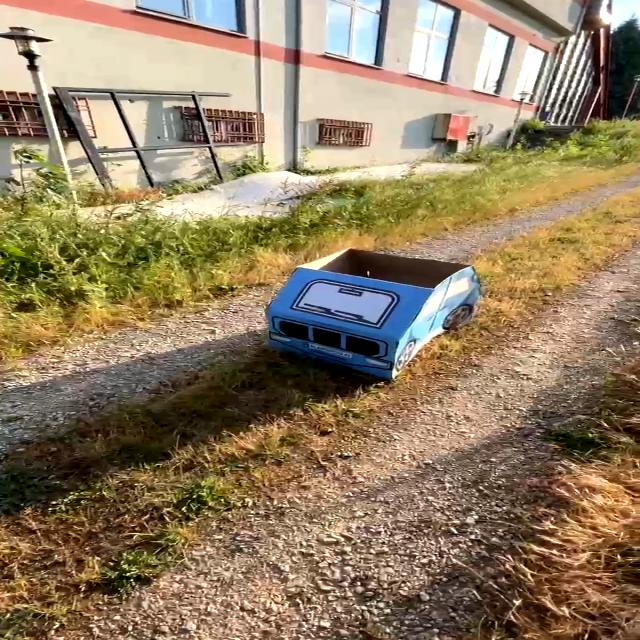blue_car: (208, 232, 519, 401)
